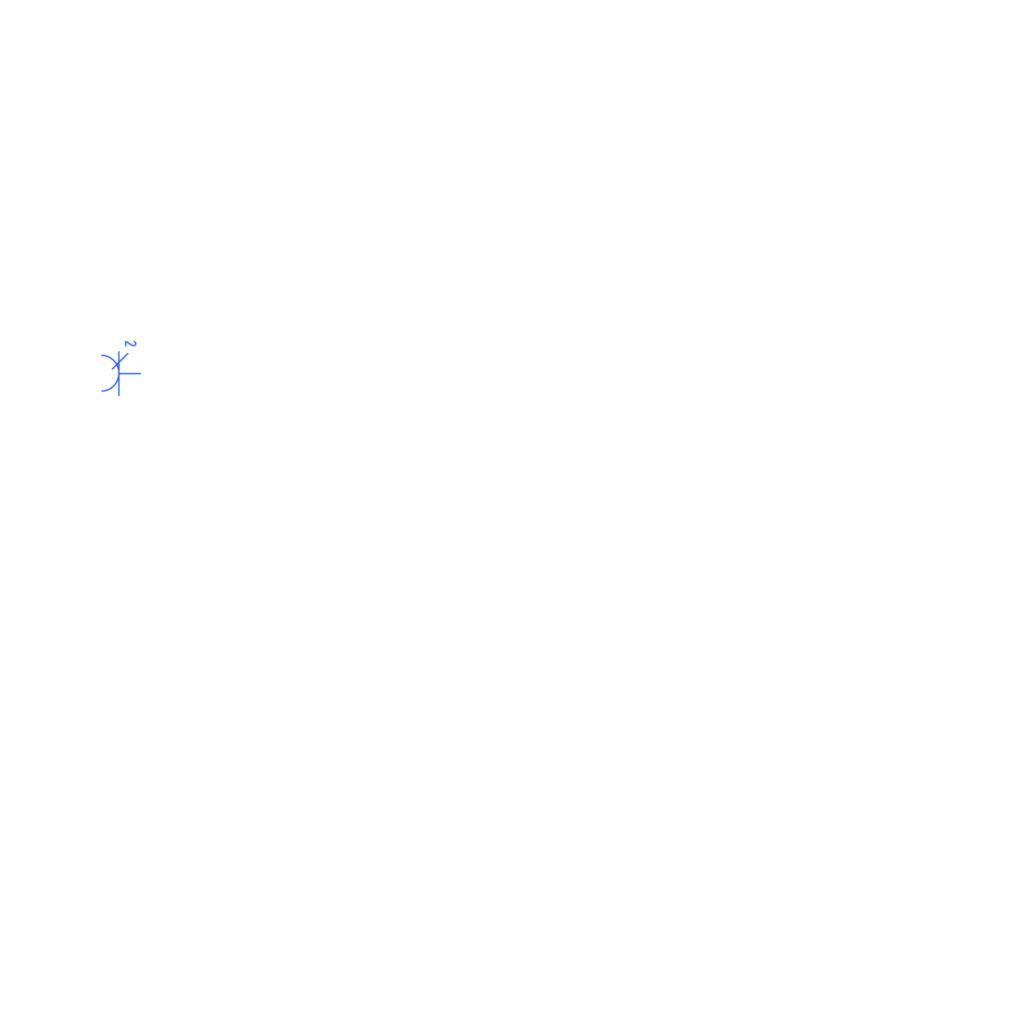Schukosteckdose_mehrfach: (98, 337, 142, 397)
